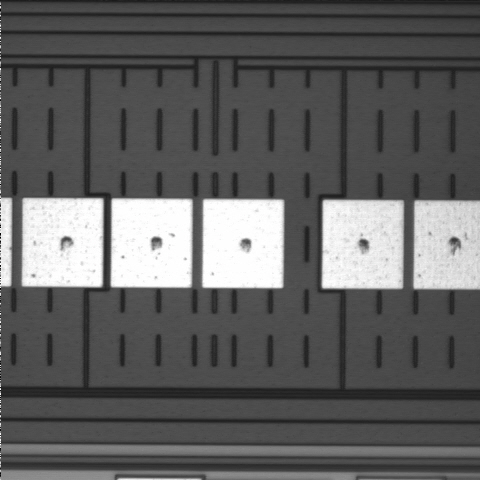pad: (202, 199, 284, 288), (111, 198, 192, 288), (22, 198, 103, 287), (322, 200, 403, 289)
